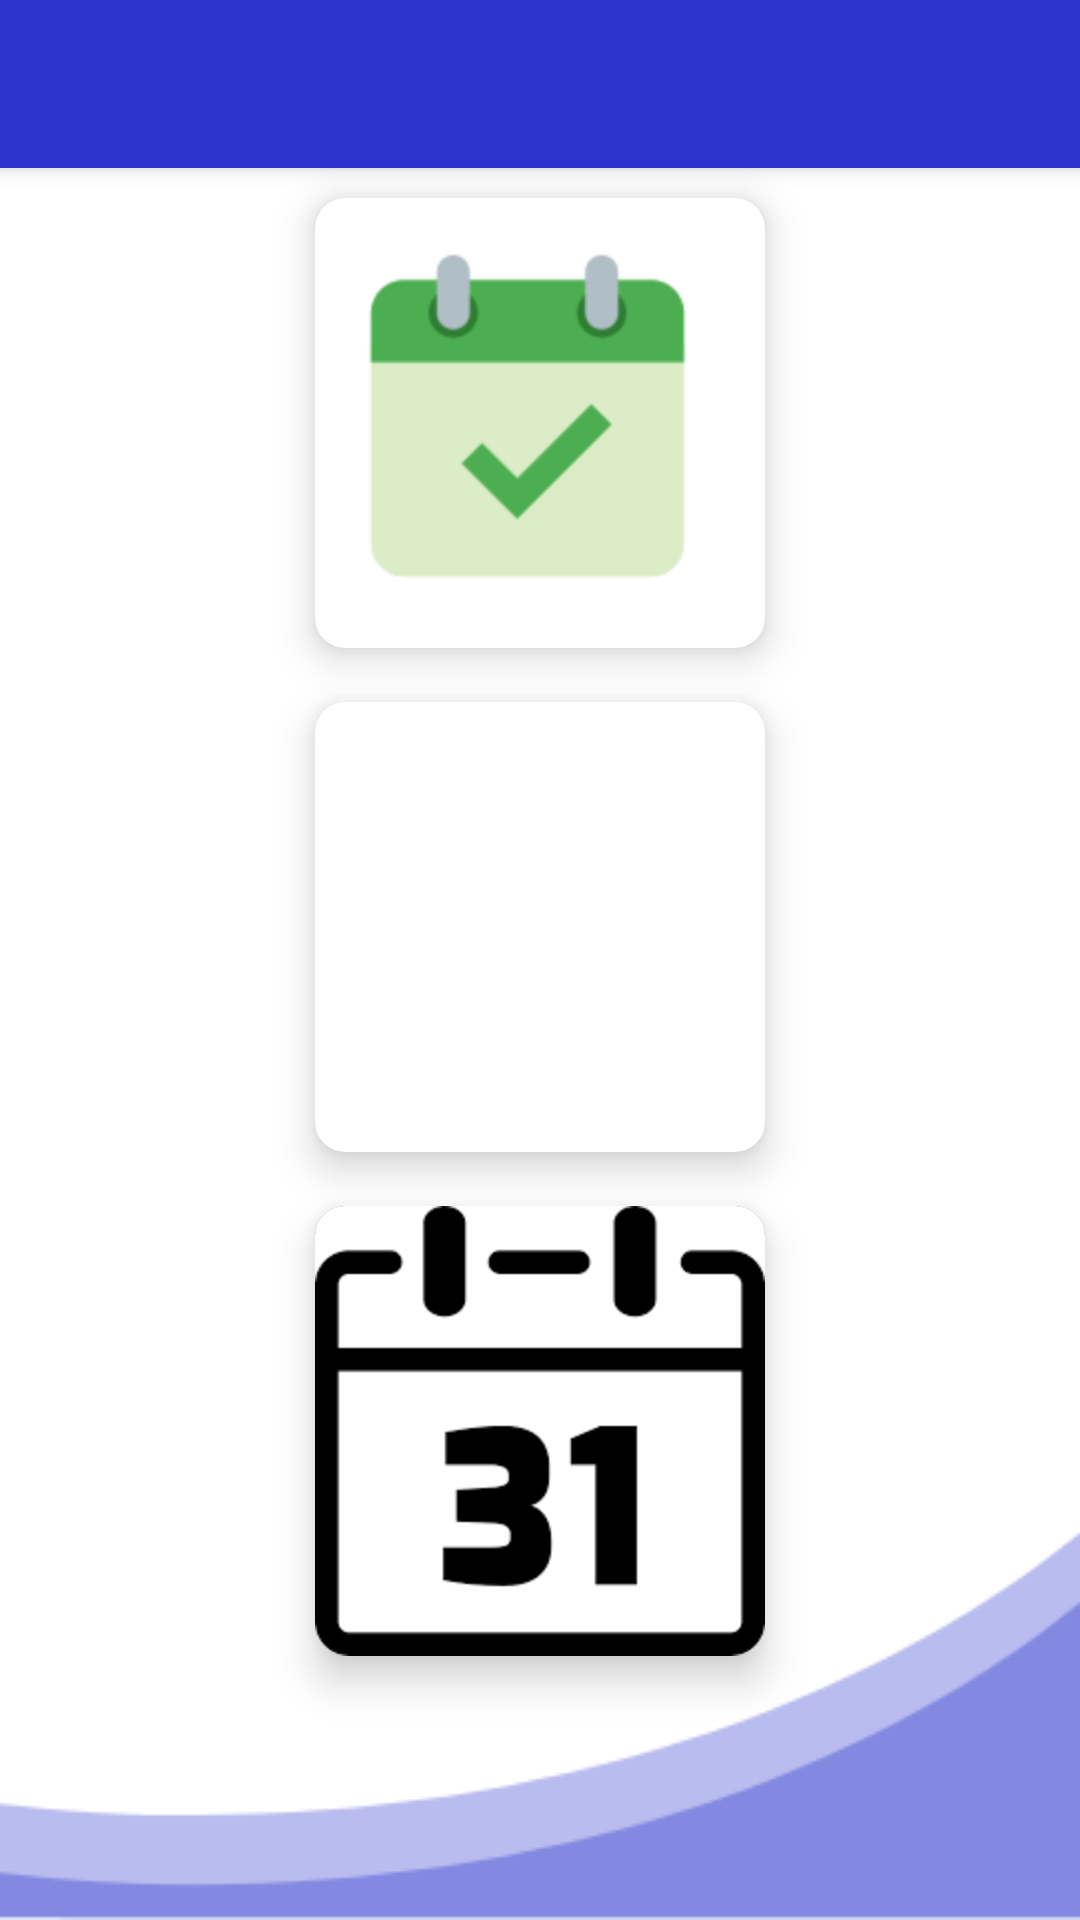

Where to tap for icons on this 1080px×1920px app screen, as (x,y):
today: (527,415)
